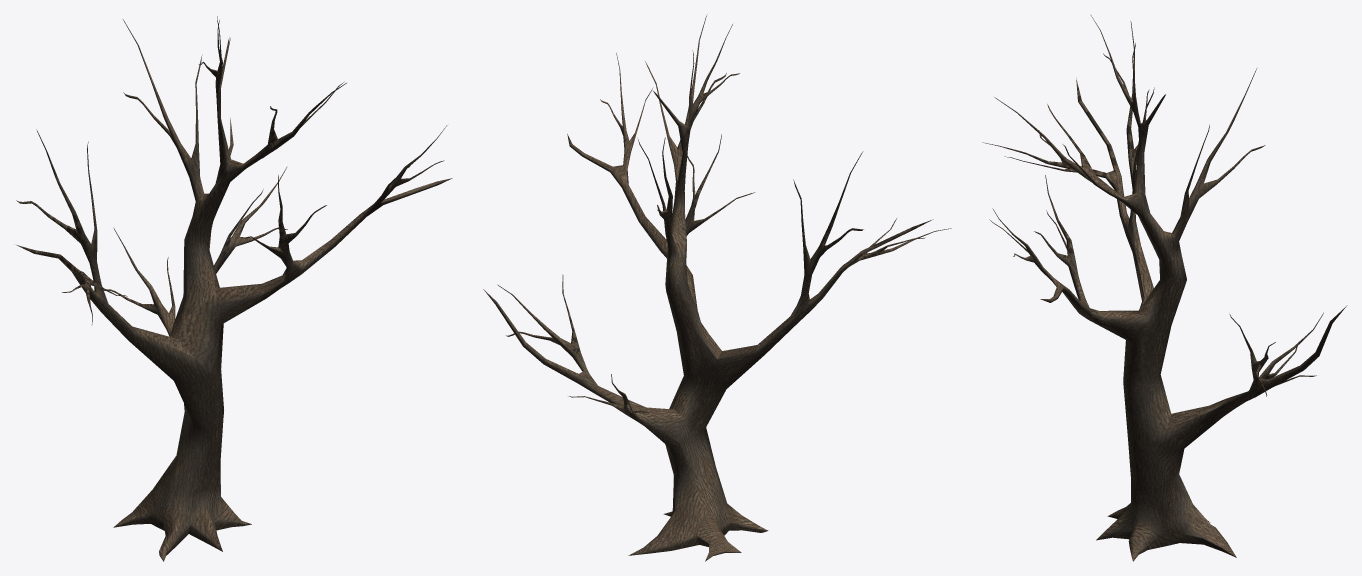
Rendered from Old_Tree_01.fbx.
The picture shows the model from 3 angles, left to right: view 1: azimuth 30°, elevation 25°; view 2: azimuth 150°, elevation 25°; view 3: azimuth 270°, elevation 25°; orthographic projection. The views are drawn at different scales.
Visible parts, largest first — view 1: Tree; view 2: Tree; view 3: Tree.
Boxes of the visible parts, <box> form: Tree: <box>16,16,452,561</box>; Tree: <box>483,14,951,561</box>; Tree: <box>982,14,1347,561</box>.
Bounding box in the file's own units: 792 × 968 × 613.
